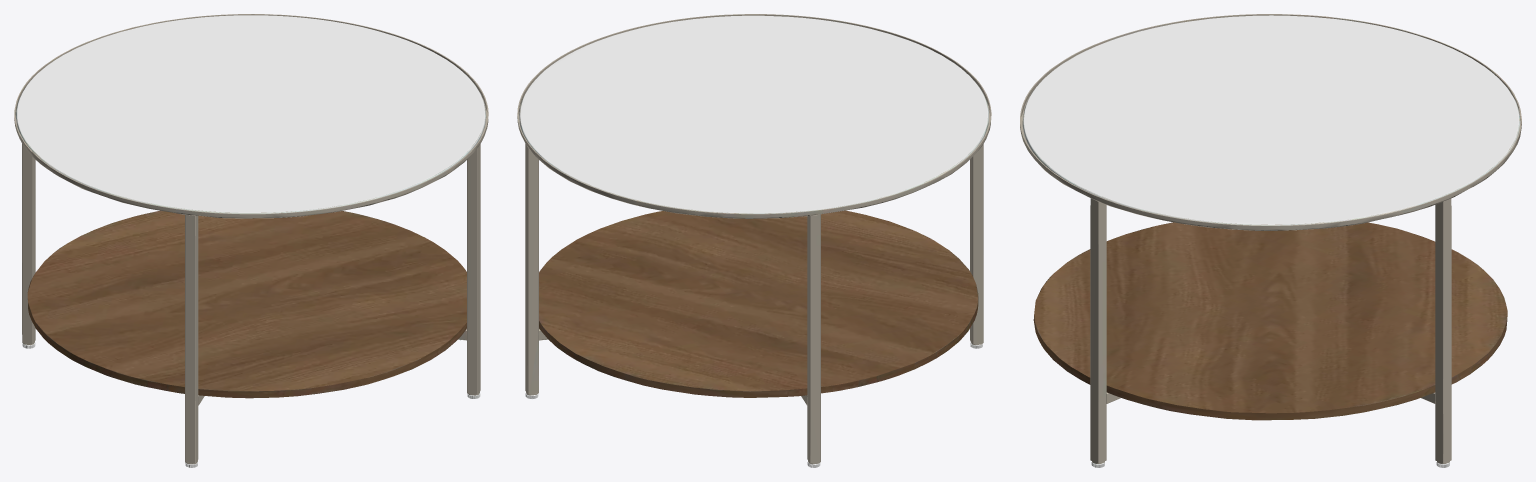
3 views of the same model, side by side, from view 1: azimuth 30°, elevation 25°; view 2: azimuth 150°, elevation 25°; view 3: azimuth 270°, elevation 25° (orthographic). The views are drawn at different scales.
Parts seen in each view (by area): view 1: ASY_ART_30604348_S01_NV01; view 2: ASY_ART_30604348_S01_NV01; view 3: ASY_ART_30604348_S01_NV01.
Part boxes in pixels (x1,y1,x2,y2): ASY_ART_30604348_S01_NV01: (14,14,488,467); ASY_ART_30604348_S01_NV01: (517,14,991,467); ASY_ART_30604348_S01_NV01: (1020,14,1521,467).
Size of the model in its own units: 0.7493 by 0.4493 by 0.7493.
2 materials, 2 textured.
